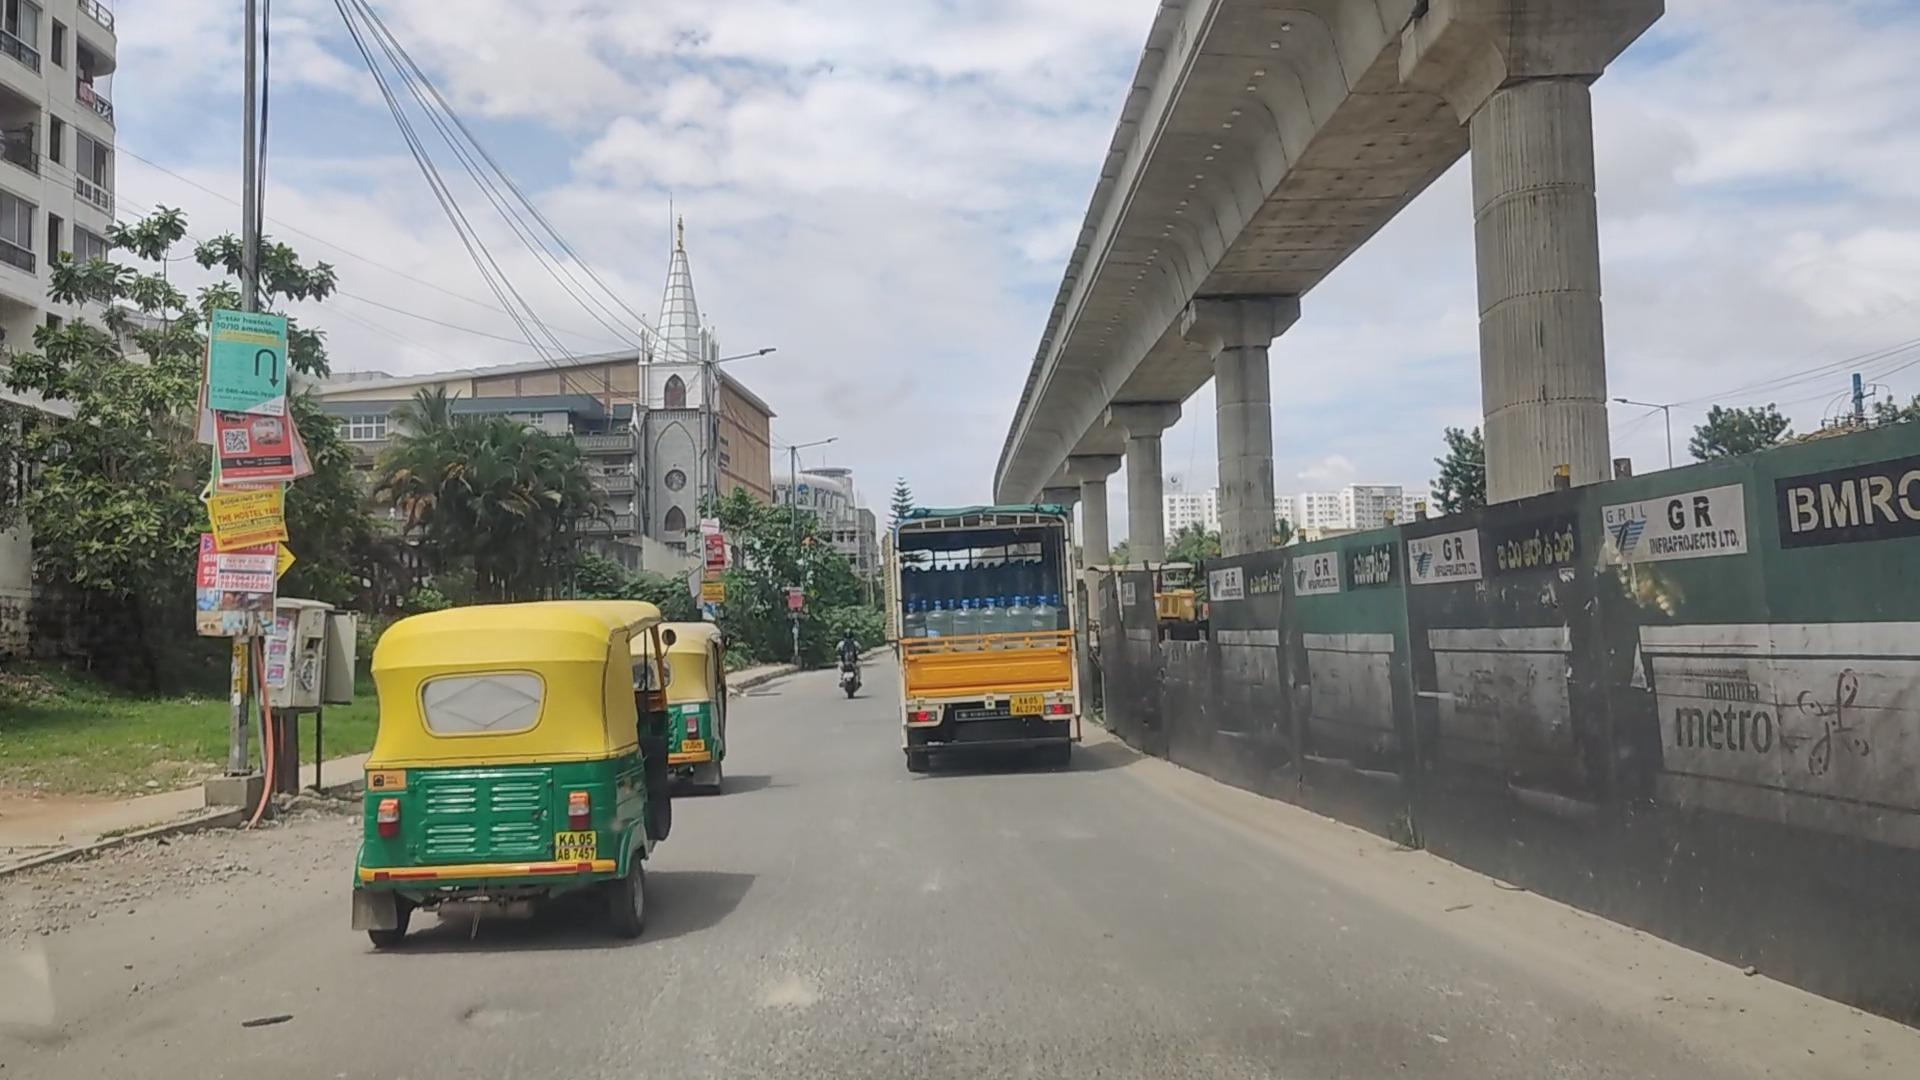HMV: (918, 502, 1105, 794)
LMV: (355, 593, 649, 984), (843, 626, 880, 713)
RoadDamages: (447, 988, 564, 1052)
